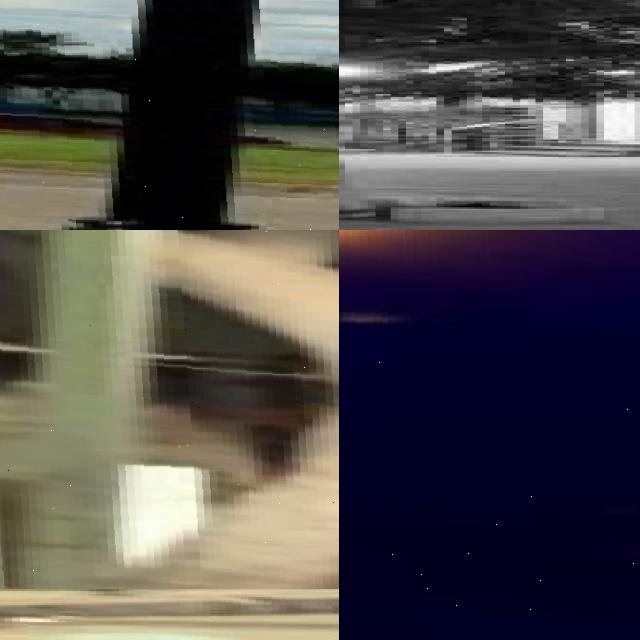street light: (339, 230, 640, 640), (0, 230, 339, 589), (0, 0, 339, 230)
